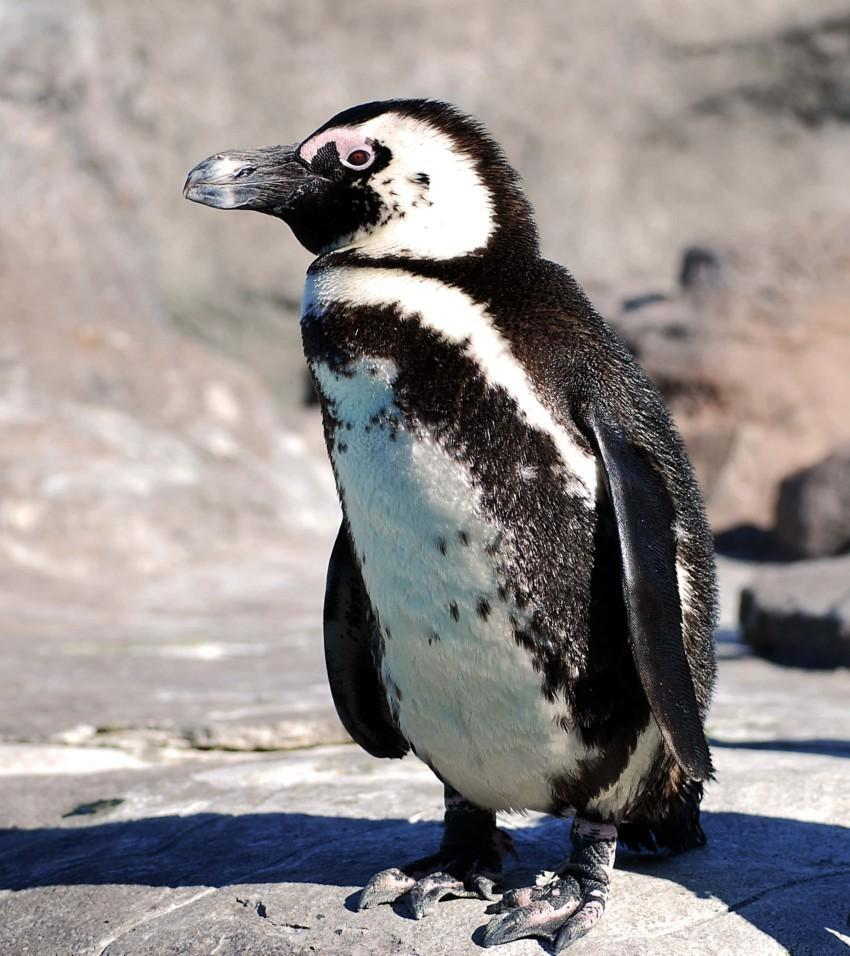Penguin: (185, 99, 715, 951)
